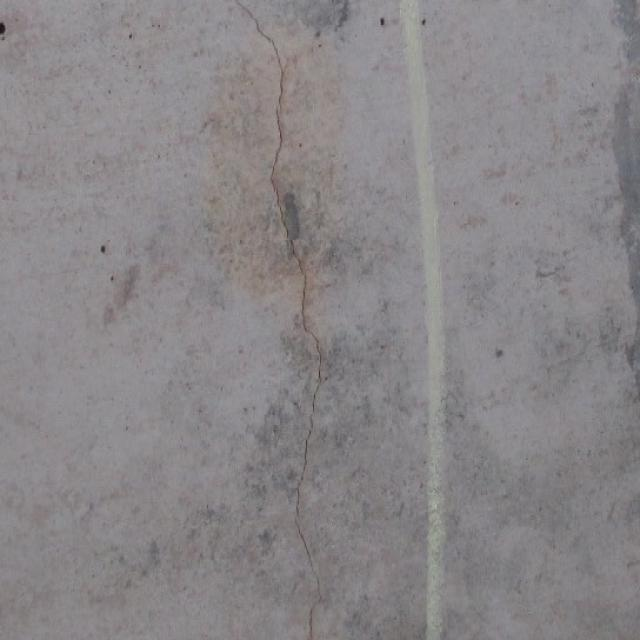Radial: (172, 0, 347, 640)
